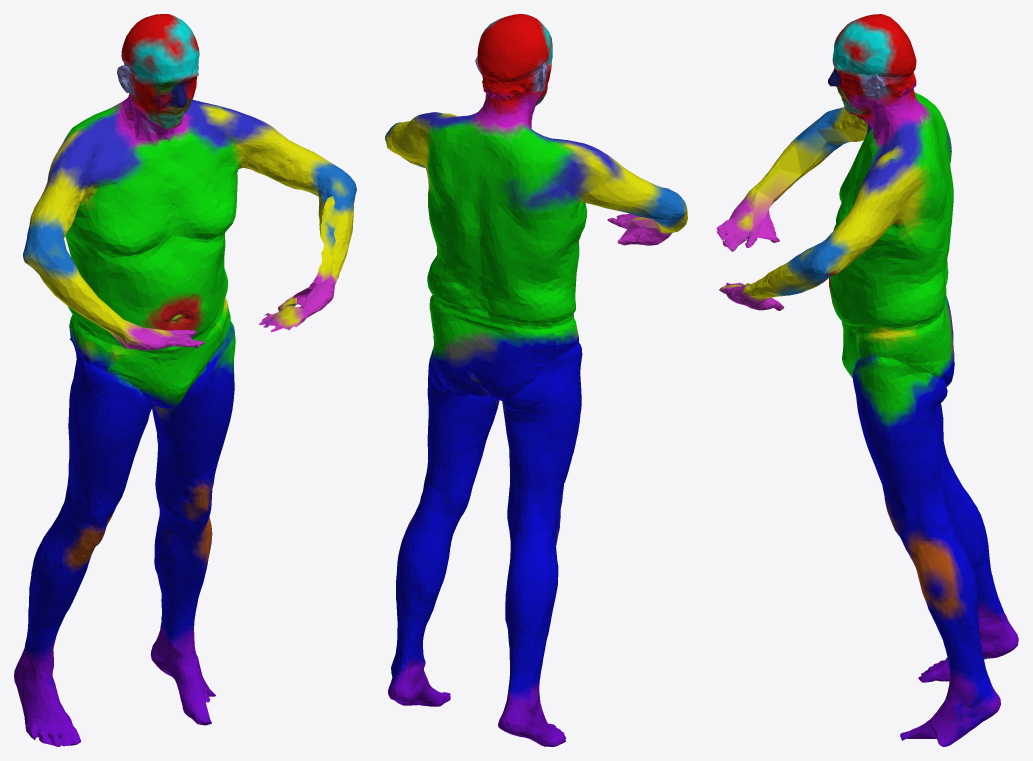
The picture shows the model from 3 angles, left to right: view 1: azimuth 30°, elevation 25°; view 2: azimuth 150°, elevation 25°; view 3: azimuth 270°, elevation 25°; orthographic projection. The views are drawn at different scales.
Visible parts, largest first — view 1: 31; view 2: 31; view 3: 31.
Boxes of the visible parts, <box> form: 31: <box>14,14,356,746</box>; 31: <box>385,14,687,746</box>; 31: <box>716,14,1018,746</box>.
Size of the model in its own units: 0.8578 by 1.85 by 0.7302.
